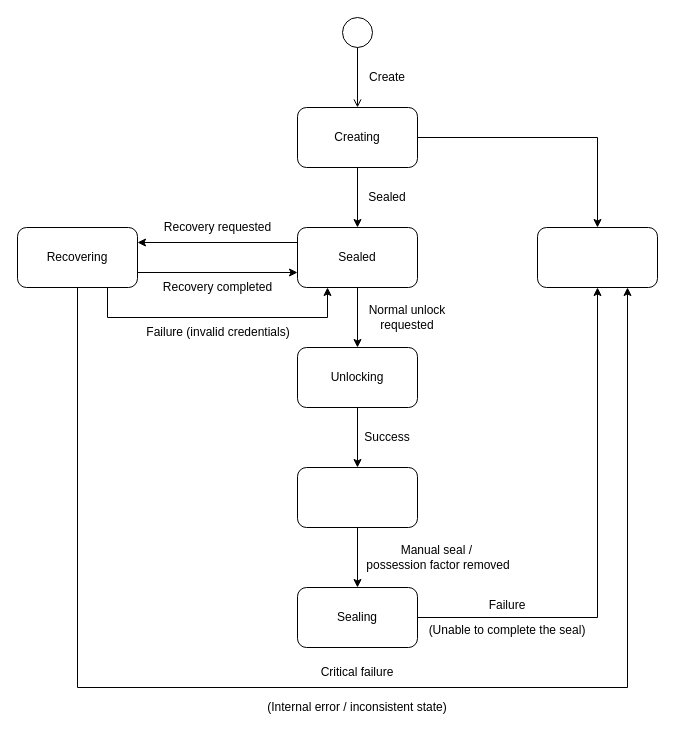
Some shapes in this 675 by 735 pixel diagram are drawn without their labels. The shapes that lost their labels are listed below. From the top down, each one's box as (x1, y1, x2, y2) in pixels, then its label:
(536, 226, 658, 288): Error
(296, 466, 418, 528): Unlocked
